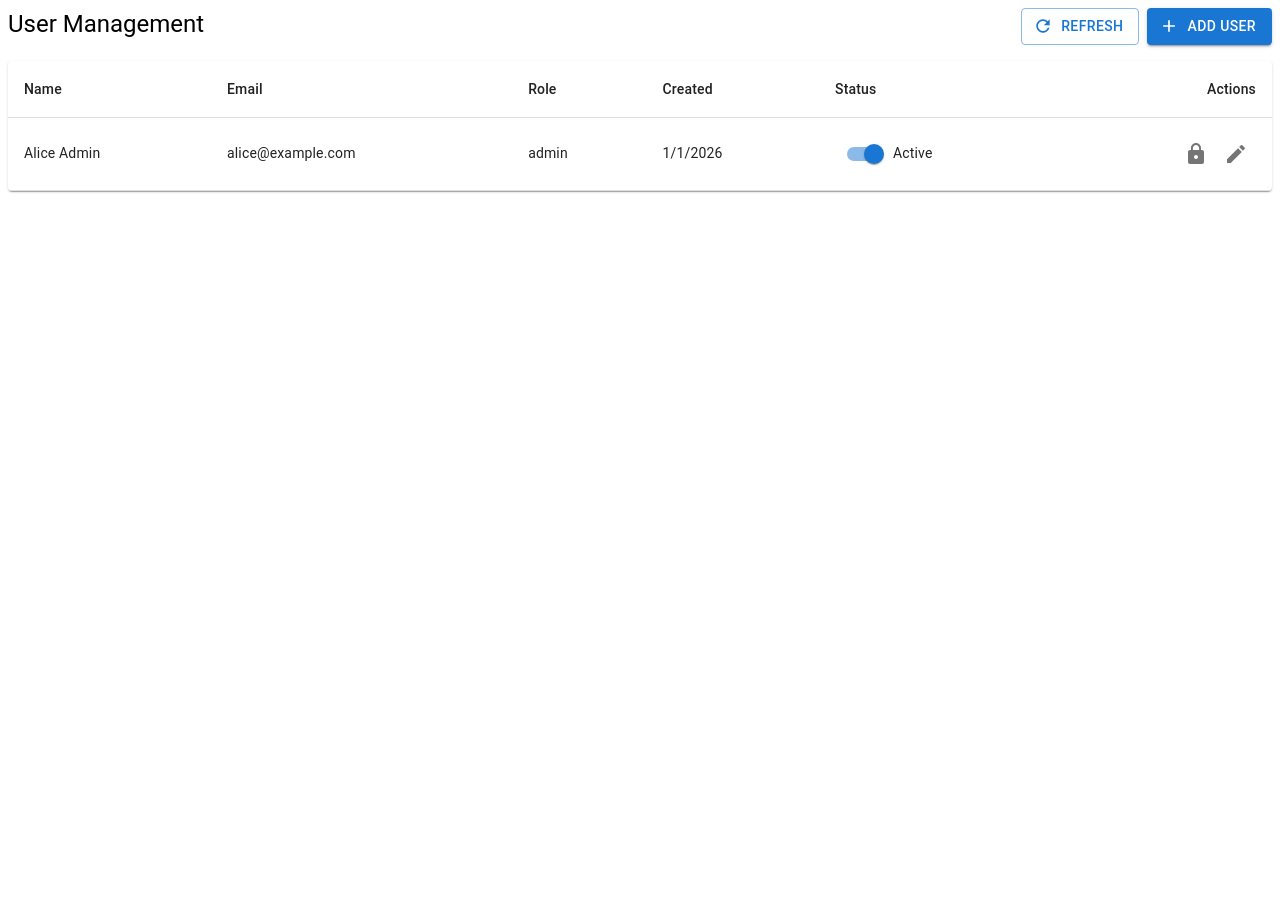
Test: UserManagement — listing › keeps the default roles when the roles fetch fails
Expected: the text "Alice Admin" is shown, [8, 117, 211, 190]
Click the button "Add User" at (1210, 26), box [1148, 8, 1272, 44]
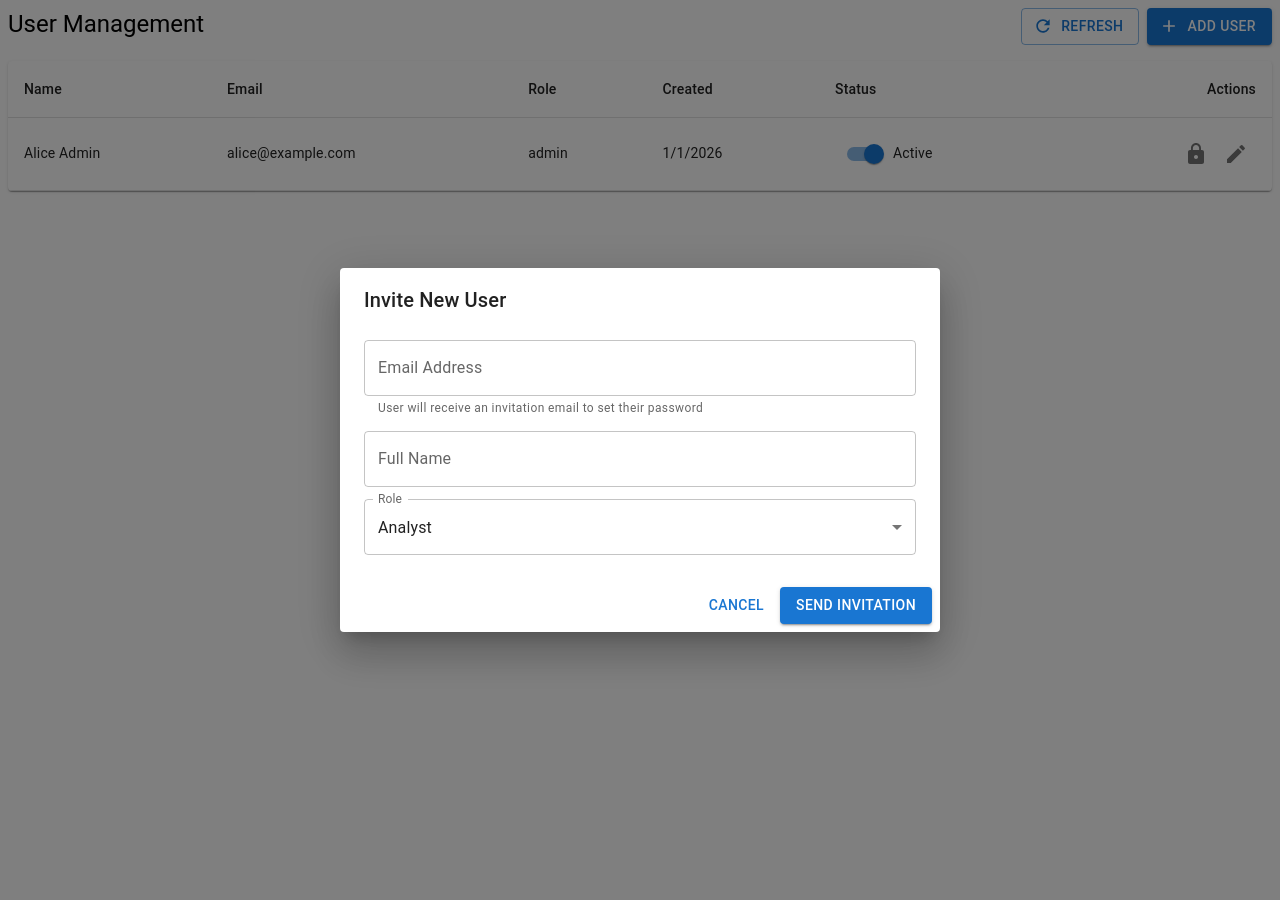
Result: the heading "Invite New User" is shown at [364, 288, 506, 312]
Result: the dropdown is shown at [378, 518, 432, 537]
